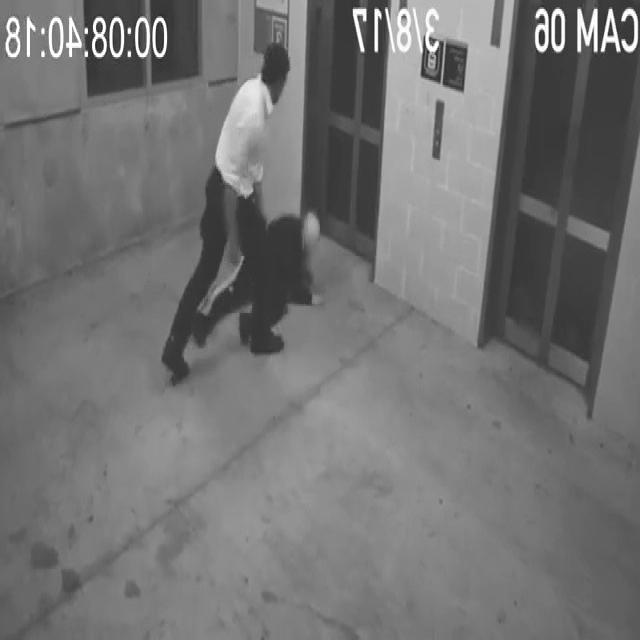fight: (123, 44, 347, 411)
